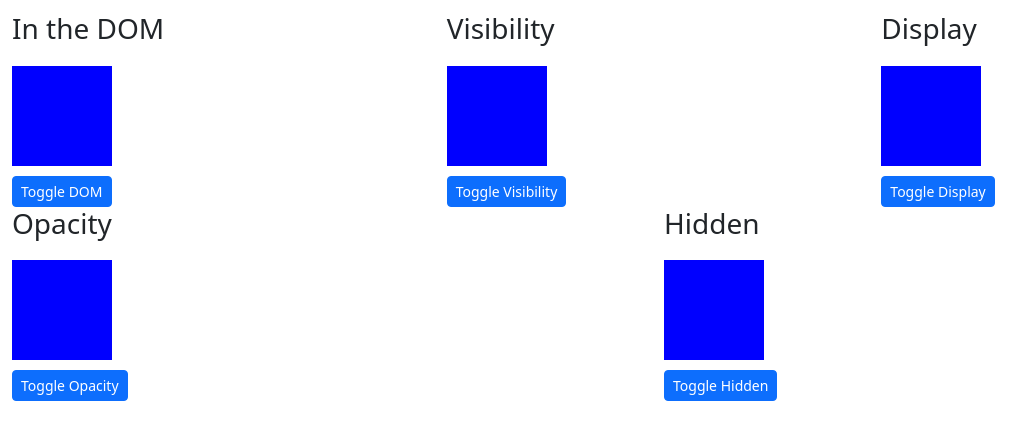
Test case: Visibility tests › Toggle Hidden
Expected: the element with test id "hidden" is shown, [664,260,764,360]
Click the button "Toggle Hidden" at (721, 386), box [664,370,777,401]
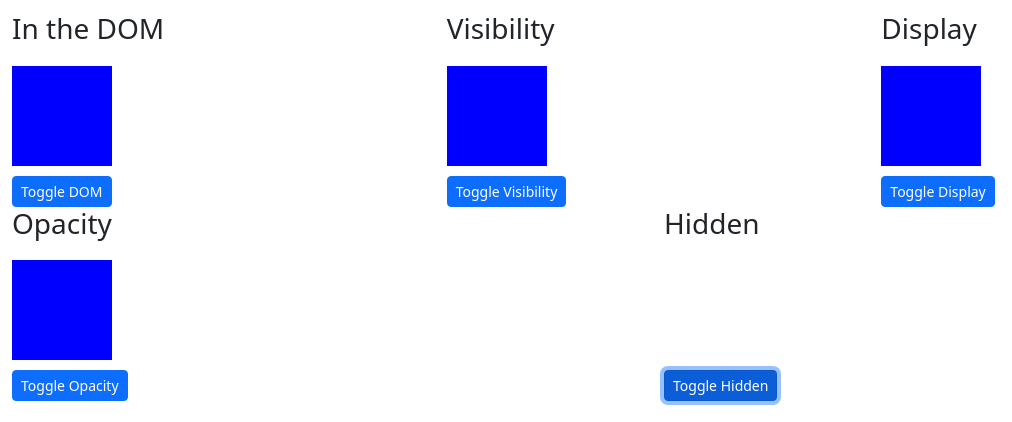
Now the element with test id "hidden" is gone
